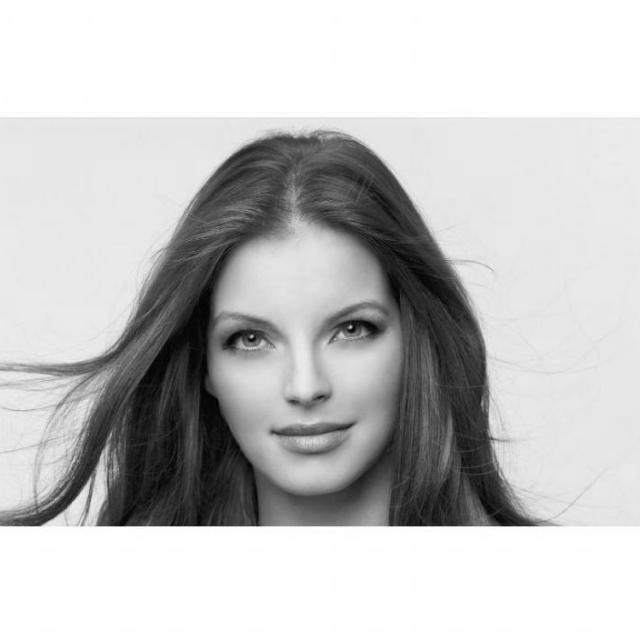real: (197, 202, 420, 506)
